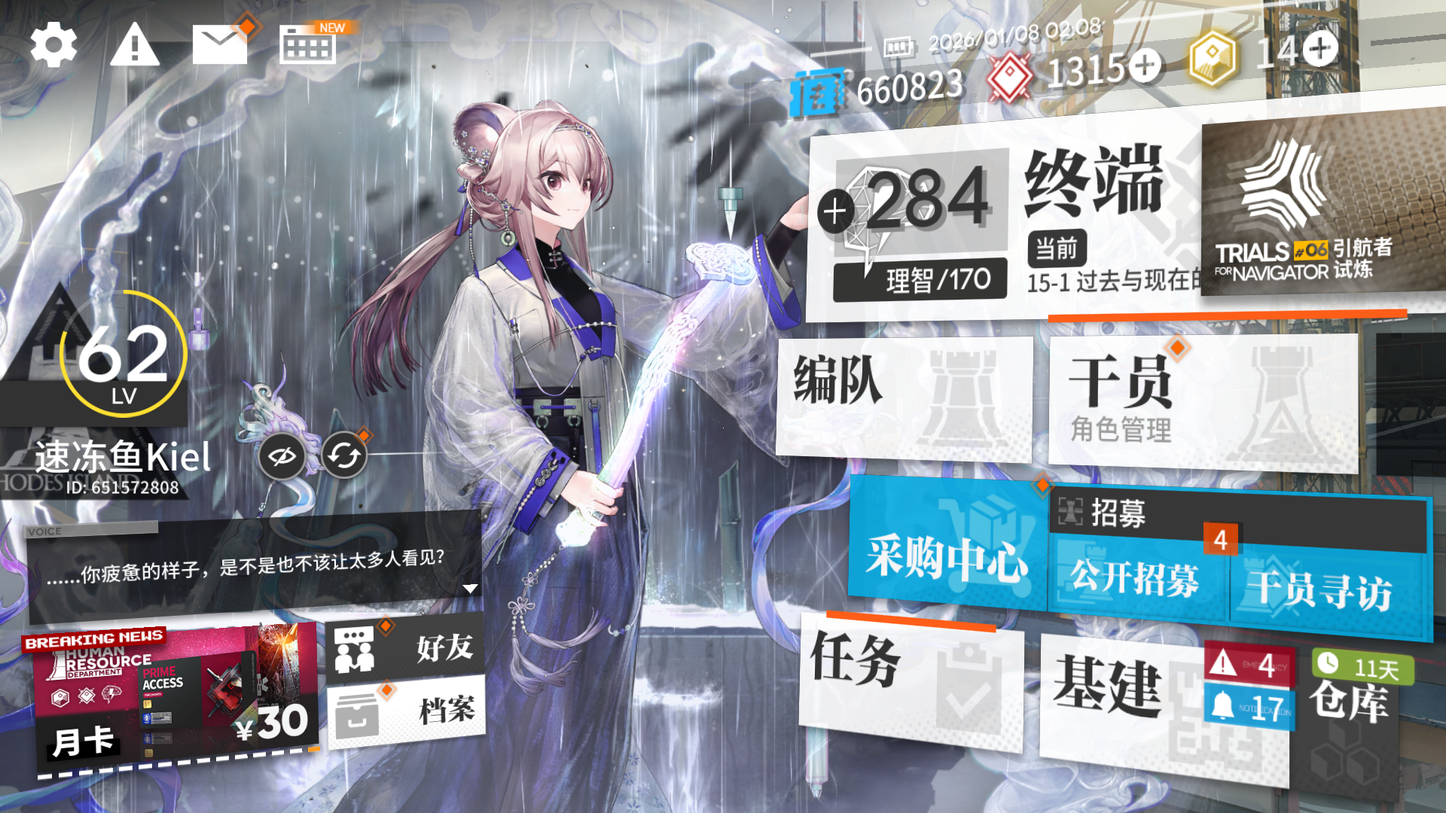home_button: (1006, 129, 1203, 262)
infrastructure_button: (1047, 639, 1283, 771)
